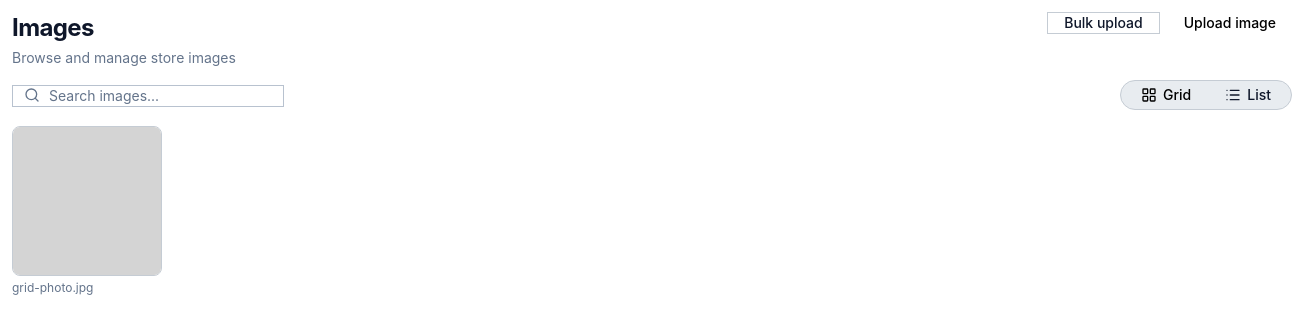
ImageGalleryPage › grid/list view toggle › switches from the thumbnail grid to the list table and back
Click the button "List". click: (1248, 95)
box: [1209, 85, 1287, 105]
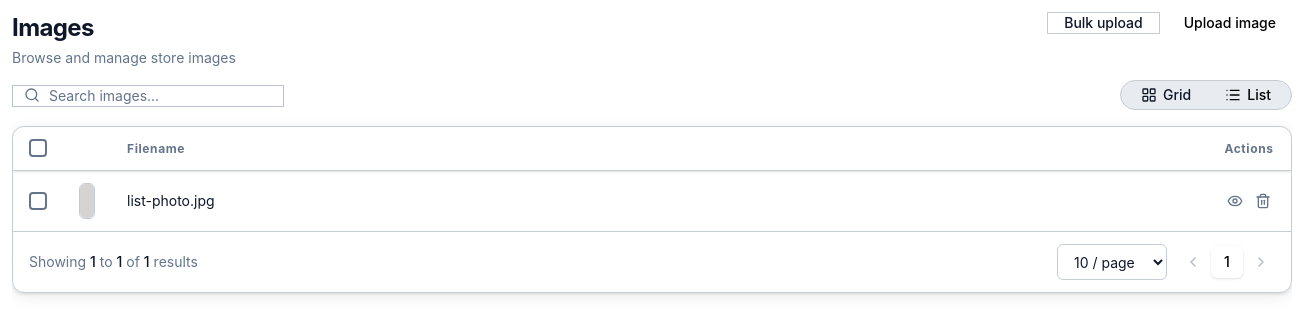
Result: the text "list-photo.jpg" is shown at [127, 192, 215, 209]
Result: the button with alt text "grid-photo.jpg" is gone
Click the button "Grid". click: (1166, 95)
box: [1125, 85, 1207, 105]
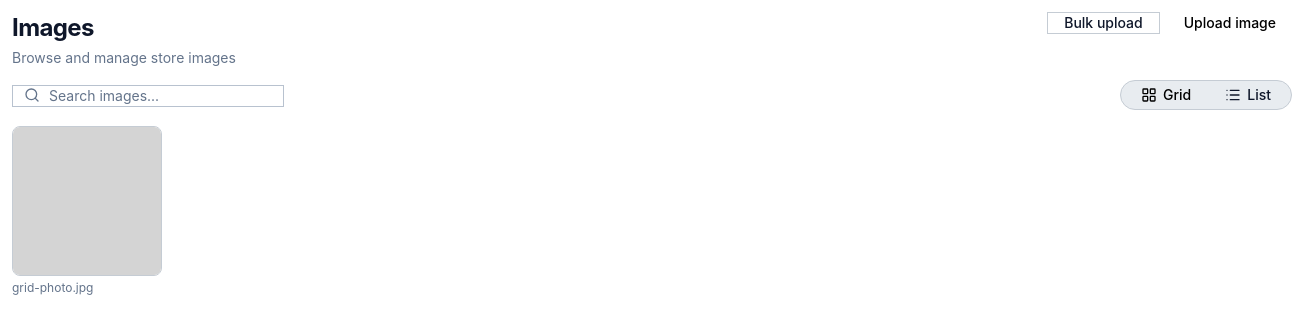
Result: the text "list-photo.jpg" is gone
